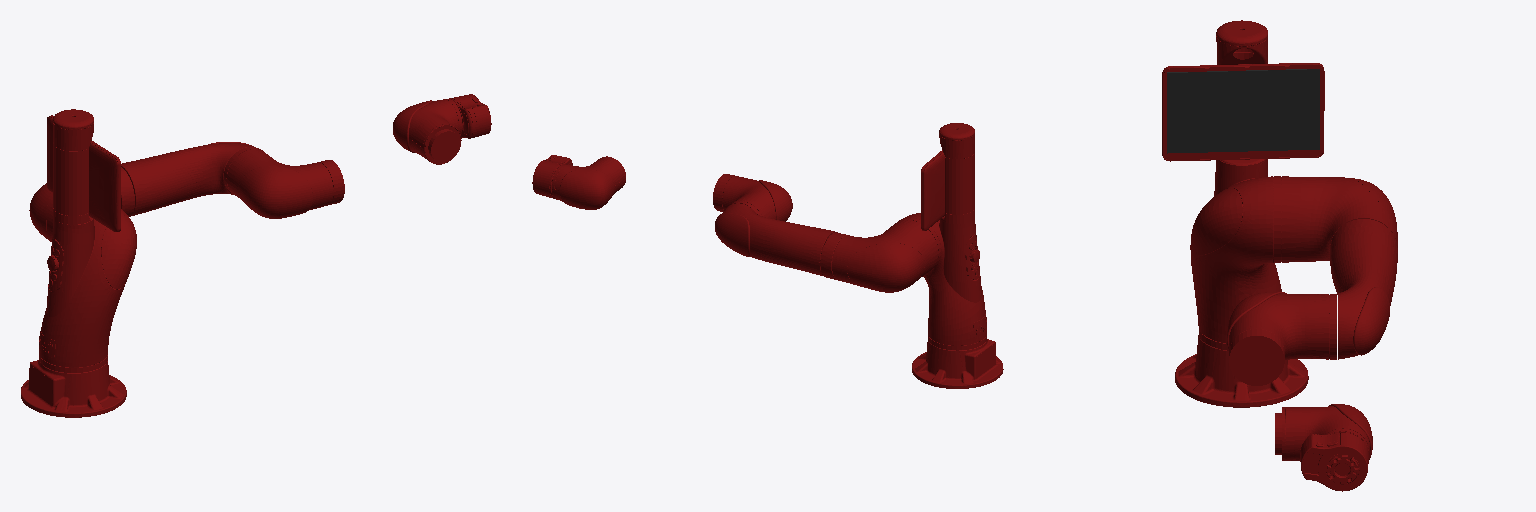
URDF robot description (sawyer):
<?xml version="1.0" ?>
<!-- =================================================================================== -->
<!-- |    This document was autogenerated by xacro from ./urdf.xacro                   | -->
<!-- |    EDITING THIS FILE BY HAND IS NOT RECOMMENDED                                 | -->
<!-- =================================================================================== -->
<robot name="sawyer" xmlns:xacro="http://www.ros.org/wiki/xacro">
    <material name="black">
      <color rgba="0 0 0 1"/>
    </material>
    <material name="darkgray">
      <color rgba=".2 .2 .2 1"/>
    </material>
    <material name="darkred">
      <color rgba=".5 .1 .1 1"/>
    </material>
    <material name="sawyer_red">
      <color rgba=".5 .1 .1 1"/>
    </material>
    <material name="sawyer_gray">
      <color rgba="0.75294 0.75294 0.75294 1"/>
    </material>
    <link name="base"/>
<!--
    <link name="torso">
      <visual>
        <origin rpy="0 0 0" xyz="0 0 0"/>
        <geometry>
          <box size="0 0 0"/>
        </geometry>
        <material name="darkgray">
          <color rgba=".2 .2 .2 1"/>
        </material>
      </visual>
      <inertial>
        <origin rpy="0 0 0" xyz="0.000000 0.000000 0.000000"/>
        <mass value="0.0001"/>
        <inertia ixx="1e-08" ixy="0" ixz="0" iyy="1e-08" iyz="0" izz="1e-08"/>
      </inertial>
    </link>
    <link name="pedestal">
      <visual>
        <origin rpy="1.57079632679 0 -1.57079632679" xyz="0.26 0.345 -0.91488"/>
        <geometry>
          <mesh filename="package://sawyer_description_openrave/meshes/sawyer_pv/pedestal.DAE"/>
        </geometry>
        <material name="darkgray"/>
      </visual>
      <collision>
        <origin rpy="0 0 0" xyz="-0.02 0 -0.29"/>
        <geometry>
          <cylinder length="0.62" radius="0.18"/>
        </geometry>
      </collision>
      <inertial>
        <origin rpy="0 0 0" xyz="0 0 0"/>
        <mass value="60.86397744"/>
        <inertia ixx="5.0635929" ixy="0.00103417" ixz="0.80199628" iyy="6.08689388" iyz="0.00105311" izz="4.96191932"/>
      </inertial>
    </link>
    <joint name="torso_t0" type="fixed">
      <origin rpy="0 0 0" xyz="0 0 0"/>
      <parent link="base"/>
      <child link="torso"/>
    </joint>
    <joint name="pedestal_fixed" type="fixed">
      <origin rpy="0 0 0" xyz="0.0 0.0 0.0"/>
      <parent link="base"/>
      <child link="pedestal"/>
    </joint>
-->
  <joint name="right_arm_mount" type="fixed">
    <origin rpy="0 0 0" xyz="0.0 0.0 0.0"/>
    <parent link="base"/>
    <child link="right_arm_base_link"/>
  </joint>
  <link name="right_arm_base_link">
    <inertial>
      <origin rpy="0 0 0" xyz="-0.0006241 -2.8025E-05 0.065404"/>
      <mass value="2.0687"/>
      <inertia ixx="0.0067599" ixy="-4.2024E-05" ixz="-6.1904E-07" iyy="0.0067877" iyz="1.5888E-05" izz="0.0074031"/>
    </inertial>
    <visual>
      <origin rpy="0 0 0" xyz="0 0 0"/>
      <geometry>
        <mesh filename="package://sawyer_description_openrave/meshes/sawyer_pv/base.DAE"/>
      </geometry>
      <material name="sawyer_red"/>
    </visual>
    <collision>
      <origin rpy="0 0 0" xyz="0 0 0.12"/>
      <geometry>
        <cylinder length="0.24" radius="0.08"/>
      </geometry>
    </collision>
  </link>
  <link name="right_l0">
    <inertial>
      <origin rpy="0 0 0" xyz="0.024366 0.010969 0.14363"/>
      <mass value="5.3213"/>
      <inertia ixx="0.053314" ixy="0.0047093" ixz="0.011734" iyy="0.057902" iyz="0.0080179" izz="0.023659"/>
    </inertial>
    <visual>
      <origin rpy="0 0 0" xyz="0 0 0"/>
      <geometry>
        <mesh filename="package://sawyer_description_openrave/meshes/sawyer_mp3/l0.DAE"/>
      </geometry>
      <material name="sawyer_red"/>
    </visual>
    <collision>
      <origin rpy="0 0 0" xyz="0.08 0 0.23"/>
      <geometry>
        <sphere radius="0.07"/>
      </geometry>
    </collision>
  </link>
  <joint name="right_j0" type="revolute">
    <origin rpy="-0.0002985644 0.0018972651 4.67207e-05" xyz="0.000163597 5.46084e-05 0.0795794219"/>
    <parent link="right_arm_base_link"/>
    <child link="right_l0"/>
    <axis xyz="0 0 1"/>
    <limit effort="80.0" lower="-3.0503" upper="3.0503" velocity="1.74"/>
  </joint>
  <link name="head">
    <inertial>
      <origin rpy="0 0 0" xyz="0.0053207 -2.6549E-05 0.1021"/>
      <mass value="1.5795"/>
      <inertia ixx="0.011833" ixy="-4.4669E-06" ixz="4.9425E-05" iyy="0.0082709" iyz="4.2124E-07" izz="0.0049661"/>
    </inertial>
    <visual>
      <origin rpy="0 0 0" xyz="0 0 0"/>
      <geometry>
        <mesh filename="package://sawyer_description_openrave/meshes/sawyer_pv/head.DAE"/>
      </geometry>
      <material name="sawyer_red"/>
    </visual>
    <collision>
      <origin rpy="0 0 0" xyz="0 0 0.08"/>
      <geometry>
        <sphere radius="0.18"/>
      </geometry>
    </collision>
  </link>
  <joint name="head_pan" type="revolute">
    <origin rpy="-0.000375610612151 -0.000717773645631 0.060618282317" xyz="-0.00043503123114 0.000635456478455 0.2965"/>
    <parent link="right_l0"/>
    <child link="head"/>
    <axis xyz="0 0 1"/>
    <limit effort="8" lower="-5.0952" upper="0.9064" velocity="1.8"/>
  </joint>
  <link name="right_torso_itb">
    <inertial>
      <origin rpy="0 0 0" xyz="0.000000 0.000000 0.000000"/>
      <mass value="0.0001"/>
      <inertia ixx="1e-08" ixy="0" ixz="0" iyy="1e-08" iyz="0" izz="1e-08"/>
    </inertial>
  </link>
  <joint name="right_torso_itb" type="fixed">
    <origin rpy="0 -1.57079632679 0" xyz="-.055 0 .22"/>
    <parent link="right_l0"/>
    <child link="right_torso_itb"/>
    <axis xyz="0 0 1"/>
  </joint>
  <link name="right_l1">
    <inertial>
      <origin rpy="0 0 0" xyz="-0.0030849 -0.026811 0.092521"/>
      <mass value="4.505"/>
      <inertia ixx="0.022398" ixy="-0.00023986" ixz="-0.00029362" iyy="0.014613" iyz="-0.0060875" izz="0.017295"/>
    </inertial>
    <visual>
      <origin rpy="0 0 0" xyz="0 0 0"/>
      <geometry>
        <mesh filename="package://sawyer_description_openrave/meshes/sawyer_mp3/l1.DAE"/>
      </geometry>
      <material name="sawyer_red"/>
    </visual>
    <collision>
      <origin rpy="0 0 0" xyz="0 0 0.1225"/>
      <geometry>
        <sphere radius="0.07"/>
      </geometry>
    </collision>
  </link>
  <joint name="right_j1" type="revolute">
    <origin rpy="-1.57005949279 1.56949847329 -0.0008032605" xyz="0.0807732027 0.0500167937 0.237"/>
    <parent link="right_l0"/>
    <child link="right_l1"/>
    <axis xyz="0 0 1"/>
    <limit effort="80.0" lower="-3.8095" upper="2.2736" velocity="1.328"/>
  </joint>
  <link name="right_l2">
    <inertial>
      <origin rpy="0 0 0" xyz="-0.00016044 -0.014967 0.13582"/>
      <mass value="1.745"/>
      <inertia ixx="0.025506" ixy="4.4101E-06" ixz="1.4955E-05" iyy="0.0253" iyz="-0.0033204" izz="0.0034179"/>
    </inertial>
    <visual>
      <origin rpy="0 0 0" xyz="0 0 0"/>
      <geometry>
        <mesh filename="package://sawyer_description_openrave/meshes/sawyer_pv/l2.DAE"/>
      </geometry>
      <material name="sawyer_red"/>
    </visual>
    <collision>
      <origin rpy="0 0 0" xyz="0 0 0.08"/>
      <geometry>
        <cylinder length="0.34" radius="0.06"/>
      </geometry>
    </collision>
  </link>
  <joint name="right_j2" type="revolute">
    <origin rpy="1.56982185629 -0.0008951969 0.0024593204" xyz="-0.0011561 -0.1402394172 0.1425177448"/>
    <parent link="right_l1"/>
    <child link="right_l2"/>
    <axis xyz="0 0 1"/>
    <limit effort="40.0" lower="-3.0426" upper="3.0426" velocity="1.957"/>
  </joint>
  <link name="right_l3">
    <inertial>
      <origin rpy="0 0 0" xyz="-0.0048135 -0.0281 -0.084154"/>
      <mass value="2.5097"/>
      <inertia ixx="0.01016" ixy="-9.7452E-06" ixz="0.00026624" iyy="0.0065685" iyz="0.0030316" izz="0.0069078"/>
    </inertial>
    <visual>
      <origin rpy="0 0 0" xyz="0 0 0"/>
      <geometry>
        <mesh filename="package://sawyer_description_openrave/meshes/sawyer_pv/l3.DAE"/>
      </geometry>
      <material name="sawyer_red"/>
    </visual>
    <collision>
      <origin rpy="0 0 0" xyz="0 -0.01 -0.12"/>
      <geometry>
        <sphere radius="0.06"/>
      </geometry>
    </collision>
  </link>
  <joint name="right_j3" type="revolute">
    <origin rpy="-1.57152985219 -0.0004637381 0.00025132" xyz="-0.0003042945 -0.0421041777 0.2600595397"/>
    <parent link="right_l2"/>
    <child link="right_l3"/>
    <axis xyz="0 0 1"/>
    <limit effort="40.0" lower="-3.0439" upper="3.0439" velocity="1.957"/>
  </joint>
  <link name="right_l4">
    <inertial>
      <origin rpy="0 0 0" xyz="-0.0018844 0.0069001 0.1341"/>
      <mass value="1.1136"/>
      <inertia ixx="0.013557" ixy="1.8109E-05" ixz="0.00013523" iyy="0.013555" iyz="0.0010561" izz="0.0013658"/>
    </inertial>
    <visual>
      <origin rpy="0 0 0" xyz="0 0 0"/>
      <geometry>
        <mesh filename="package://sawyer_description_openrave/meshes/sawyer_pv/l4.DAE"/>
      </geometry>
      <material name="sawyer_red"/>
    </visual>
    <collision>
      <origin rpy="0 0 0" xyz="0 0 0.11"/>
      <geometry>
        <cylinder length="0.30" radius="0.045"/>
      </geometry>
    </collision>
  </link>
  <joint name="right_j4" type="revolute">
    <origin rpy="1.57148053569 -0.0006765717 -0.0004526017" xyz="-4.14656e-05 -0.1247526357 -0.1266411523"/>
    <parent link="right_l3"/>
    <child link="right_l4"/>
    <axis xyz="0 0 1"/>
    <limit effort="9.0" lower="-2.9761" upper="2.9761" velocity="3.485"/>
  </joint>
  <link name="right_arm_itb">
    <inertial>
      <origin rpy="0 0 0" xyz="0.000000 0.000000 0.000000"/>
      <mass value="0.0001"/>
      <inertia ixx="1e-08" ixy="0" ixz="0" iyy="1e-08" iyz="0" izz="1e-08"/>
    </inertial>
  </link>
  <joint name="right_arm_itb" type="fixed">
    <origin rpy="0 -1.57079632679 0" xyz="-.055 0 .075"/>
    <parent link="right_l4"/>
    <child link="right_arm_itb"/>
    <axis xyz="0 0 1"/>
  </joint>
  <link name="right_l5">
    <inertial>
      <origin rpy="0 0 0" xyz="0.0061133 -0.023697 0.076416"/>
      <mass value="1.5625"/>
      <inertia ixx="0.0047328" ixy="0.00011526" ixz="4.6269E-05" iyy="0.0029676" iyz="-0.0011557" izz="0.0031762"/>
    </inertial>
    <visual>
      <origin rpy="0 0 0" xyz="0 0 0"/>
      <geometry>
        <mesh filename="package://sawyer_description_openrave/meshes/sawyer_pv/l5.DAE"/>
      </geometry>
      <material name="sawyer_red"/>
    </visual>
    <collision>
      <origin rpy="0 0 0" xyz="0 0 0.1"/>
      <geometry>
        <sphere radius="0.06"/>
      </geometry>
    </collision>
  </link>
  <joint name="right_j5" type="revolute">
    <origin rpy="-1.56869259669 0.0005321883 0.0007813353" xyz="-0.0001236812 0.0307252196 0.2746521054"/>
    <parent link="right_l4"/>
    <child link="right_l5"/>
    <axis xyz="0 0 1"/>
    <limit effort="9.0" lower="-2.9761" upper="2.9761" velocity="3.485"/>
  </joint>
  <link name="right_hand_camera"/>
  <joint name="right_hand_camera" type="fixed">
    <origin rpy="-0.445734774695 1.55629550314 -0.429789630424" xyz="0.0382275754565 -0.032511331905 0.0686165502955"/>
    <parent link="right_l5"/>
    <child link="right_hand_camera"/>
    <axis xyz="0 0 0"/>
  </joint>
  <link name="right_wrist"/>
  <joint name="right_wrist" type="fixed">
    <origin rpy="1.57079632679 0 0" xyz="0 0 0.10541"/>
    <parent link="right_l5"/>
    <child link="right_wrist"/>
    <axis xyz="0 0 0"/>
  </joint>
  <link name="right_l6">
    <inertial>
      <origin rpy="0 0 0" xyz="-8.0726E-06 0.0085838 -0.0049566"/>
      <mass value="0.3292"/>
      <inertia ixx="0.00031105" ixy="1.4771E-06" ixz="-3.7074E-07" iyy="0.00021549" iyz="-8.4533E-06" izz="0.00035976"/>
    </inertial>
    <visual>
      <origin rpy="0 0 0" xyz="0 0 0"/>
      <geometry>
        <mesh filename="package://sawyer_description_openrave/meshes/sawyer_mp1/l6.DAE"/>
      </geometry>
      <material name="sawyer_red"/>
    </visual>
    <collision>
      <origin rpy="0 0 0" xyz="0 0.015 -0.01"/>
      <geometry>
        <cylinder length="0.05" radius="0.055"/>
      </geometry>
    </collision>
  </link>
  <joint name="right_j6" type="revolute">
    <origin rpy="-1.56987330589 -0.1773123624 3.1421484795" xyz="0.0001362646 -0.1098066995 0.1050523612"/>
    <parent link="right_l5"/>
    <child link="right_l6"/>
    <axis xyz="0 0 1"/>
    <limit effort="9.0" lower="-4.7124" upper="4.7124" velocity="4.545"/>
  </joint>
  <link name="right_hand">
    <collision>
      <origin rpy="0 0 0" xyz="0 0 0.02"/>
      <geometry>
        <cylinder length="0.03" radius="0.035"/>
      </geometry>
    </collision>
    <inertial>
      <origin rpy="0 0 0" xyz="1.0E-08 1.0E-08 1.0E-08"/>
      <mass value="1.0E-08"/>
      <inertia ixx="1.0E-08" ixy="1.0E-08" ixz="1.0E-08" iyy="1.0E-08" iyz="1.0E-08" izz="1.0E-08"/>
    </inertial>
  </link>
  <joint name="right_hand" type="fixed">
    <origin rpy="0 0 1.570796" xyz="0 0 0.0245"/>
    <axis xyz="0 0 1"/>
    <parent link="right_l6"/>
    <child link="right_hand"/>
  </joint>
  <link name="right_l1_2">
    <inertial>
      <origin rpy="0 0 0" xyz="1.0E-08 1.0E-08 1.0E-08"/>
      <mass value="1.0E-08"/>
      <inertia ixx="1.0E-08" ixy="1.0E-08" ixz="1.0E-08" iyy="1.0E-08" iyz="1.0E-08" izz="1.0E-08"/>
    </inertial>
    <collision>
      <origin rpy="0 0 0" xyz="0 0 0.035"/>
      <geometry>
        <cylinder length="0.14" radius="0.07"/>
      </geometry>
    </collision>
  </link>
  <joint name="right_j1_2" type="fixed">
    <origin rpy="0 0 0" xyz="0 0 0"/>
    <parent link="right_l1"/>
    <child link="right_l1_2"/>
    <axis xyz="0 0 1"/>
  </joint>
  <link name="right_l2_2">
    <inertial>
      <origin rpy="0 0 0" xyz="1.0E-08 1.0E-08 1.0E-08"/>
      <mass value="1.0E-08"/>
      <inertia ixx="1.0E-08" ixy="1.0E-08" ixz="1.0E-08" iyy="1.0E-08" iyz="1.0E-08" izz="1.0E-08"/>
    </inertial>
    <collision>
      <origin rpy="0 0 0" xyz="0 0 0.26"/>
      <geometry>
        <sphere radius="0.06"/>
      </geometry>
    </collision>
  </link>
  <joint name="right_j2_2" type="fixed">
    <origin rpy="0 0 0" xyz="0 0 0"/>
    <parent link="right_l2"/>
    <child link="right_l2_2"/>
    <axis xyz="0 0 1"/>
  </joint>
  <link name="right_l4_2">
    <inertial>
      <origin rpy="0 0 0" xyz="1.0E-08 1.0E-08 1.0E-08"/>
      <mass value="1.0E-08"/>
      <inertia ixx="1.0E-08" ixy="1.0E-08" ixz="1.0E-08" iyy="1.0E-08" iyz="1.0E-08" izz="1.0E-08"/>
    </inertial>
    <collision>
      <origin rpy="0 0 0" xyz="0 0.01 0.26"/>
      <geometry>
        <sphere radius="0.06"/>
      </geometry>
    </collision>
  </link>
  <joint name="right_j4_2" type="fixed">
    <origin rpy="0 0 0" xyz="0 0 0"/>
    <parent link="right_l4"/>
    <child link="right_l4_2"/>
    <axis xyz="0 0 1"/>
  </joint>
  <link name="screen">
    <visual>
      <origin rpy="0 0 0" xyz="0 0 0"/>
      <geometry>
        <box size="0.24 0.14 0.002"/>
      </geometry>
      <material name="darkgray"/>
    </visual>
    <collision>
      <origin rpy="0 0 0" xyz="0 0 0"/>
      <geometry>
        <sphere radius="0.001"/>
      </geometry>
    </collision>
    <inertial>
      <origin rpy="0 0 0" xyz="0 0 0"/>
      <mass value="0.0001"/>
      <inertia ixx="1e-08" ixy="0" ixz="0" iyy="1e-08" iyz="0" izz="1e-08"/>
    </inertial>
  </link>
  <joint name="display_joint" type="fixed">
    <origin rpy="1.57079632679 0 1.57079632679" xyz="0.03 0.0 0.105"/>
    <parent link="head"/>
    <child link="screen"/>
  </joint>
  <link name="head_camera"/>
  <joint name="head_camera" type="fixed">
    <origin rpy="-2.12362578457 0.00914483957425 -1.57079632679" xyz="0.0253976919969 -0.000870932656271 0.215696810568"/>
    <parent link="head"/>
    <child link="head_camera"/>
    <axis xyz="0 0 0"/>
  </joint>
  
<!--
  <link name="controller_box">
    <collision>
      <origin rpy="0 0 0" xyz="-0.325 0 -0.38"/>
      <geometry>
        <box size="0.22 0.4 0.53"/>
      </geometry>
    </collision>
  </link>
  <joint name="controller_box_fixed" type="fixed">
    <origin rpy="0 0 0" xyz="0.0 0.0 0.0"/>
    <parent link="base"/>
    <child link="controller_box"/>
  </joint>
  <link name="pedestal_feet">
    <collision>
      <origin rpy="0 0 0" xyz="-0.1225 0 -0.758"/>
      <geometry>
        <box size="0.77 0.7 0.31"/>
      </geometry>
    </collision>
  </link>
  <joint name="pedestal_feet_fixed" type="fixed">
    <origin rpy="0 0 0" xyz="0.0 0.0 0.0"/>
    <parent link="base"/>
    <child link="pedestal_feet"/>
  </joint>
  <joint name="right_gripper_base" type="fixed">
    <child link="right_gripper_base">
    </child>
    <origin rpy="0.0 0.0 0.0" xyz="0.0 0.0 -0.00500000000000000">
    </origin>
    <parent link="right_hand">
    </parent>
  </joint>
  <joint name="right_gripper_endpoint" type="fixed">
    <child link="right_gripper">
    </child>
    <origin rpy="0.0 0.0 0.0" xyz="0.0 0.0 0.0500000000000000">
    </origin>
    <parent link="right_gripper_base">
    </parent>
  </joint>
  <link name="right_gripper_base">
    <collision>
      <geometry>
        <cylinder length="0.118" radius="0.070">
        </cylinder>
      </geometry>
      <origin rpy="0.0 0.0 0.0" xyz="0.0 0.0 0.00500000000000000">
      </origin>
    </collision>
    <inertial>
      <inertia ixx="0.0" ixy="0.0" ixz="0.0" iyy="0.0" iyz="0.0" izz="0.0">
      </inertia>
      <mass value="0.440000000000000">
      </mass>
      <origin rpy="0.0 0.0 0.0" xyz="0.00280000000000000 -0.000400000000000000 0.0322000000000000">
      </origin>
    </inertial>
    <visual>
      <geometry>
        <mesh filename="package://intera_tools_description/meshes/electric_gripper/electric_gripper_w_fingers.DAE" scale="1.0 1.0 1.0">
        </mesh>
      </geometry>
      <origin rpy="0.0 0.0 0.0" xyz="0.0 0.0 -0.00100000000000000">
      </origin>
    </visual>
  </link>
  <link name="right_gripper">
    <collision>
      <geometry>
        <box size="0.0100000000000000 0.0100000000000000 0.0100000000000000">
        </box>
      </geometry>
      <origin rpy="0.0 0.0 0.0" xyz="0.0 0.0 0.0">
      </origin>
    </collision>
    <inertial>
      <inertia ixx="1.00000000000000e-08" ixy="0.0" ixz="0.0" iyy="1.00000000000000e-08" iyz="0.0" izz="1.00000000000000e-08">
      </inertia>
      <mass value="0.0">
      </mass>
      <origin rpy="0.0 0.0 0.0" xyz="0.0 0.0 0.0">
      </origin>
    </inertial>
    <visual>
      <geometry>
        <box size="0.0150000000000000 0.0150000000000000 0.0150000000000000">
        </box>
      </geometry>
      <material name="darkgrey">
        <color rgba="0.200000000000000 0.300000000000000 0.300000000000000 1.0">
        </color>
      </material>
      <origin rpy="0.0 0.0 0.0" xyz="0.0 0.0 0.0">
      </origin>
    </visual>
  </link>
-->
  </robot>

--- Facts derived from the render (not from the file) ---
Views: 3 orthographic renders of the robot side by side, from view 1: azimuth 30°, elevation 25°; view 2: azimuth 150°, elevation 25°; view 3: azimuth 270°, elevation 25°.
Robot: sawyer — 20 links, 19 joints (8 revolute, 11 fixed); root link base; default pose: every joint at zero.
Links seen in each view (by area): view 1: right_l0, head, right_l3, right_l2, right_arm_base_link, right_l5, right_l1, right_l6; view 2: right_l0, right_l1, right_l2, head, right_arm_base_link, right_l5, right_l3, right_l6; view 3: screen, right_l0, right_l3, right_l1, right_l2, head, right_arm_base_link, right_l6, right_l5.
Link boxes in pixels (bbox=[...]): right_l0: bbox=[39, 209, 136, 372]; head: bbox=[47, 109, 120, 231]; right_l3: bbox=[224, 147, 344, 218]; right_l2: bbox=[121, 142, 253, 216]; right_arm_base_link: bbox=[21, 359, 126, 417]; right_l5: bbox=[393, 99, 462, 164]; right_l1: bbox=[29, 167, 134, 241]; right_l6: bbox=[449, 94, 491, 138]; right_l0: bbox=[899, 213, 986, 350]; right_l1: bbox=[820, 218, 940, 292]; right_l2: bbox=[715, 203, 837, 275]; head: bbox=[921, 123, 974, 230]; right_arm_base_link: bbox=[912, 339, 1003, 388]; right_l5: bbox=[552, 156, 625, 209]; right_l3: bbox=[713, 174, 792, 221]; right_l6: bbox=[532, 155, 572, 198]; screen: bbox=[1167, 69, 1319, 153]; right_l0: bbox=[1190, 159, 1281, 350]; right_l3: bbox=[1227, 292, 1336, 385]; right_l1: bbox=[1274, 176, 1397, 262]; right_l2: bbox=[1330, 226, 1397, 359]; head: bbox=[1162, 20, 1324, 164]; right_arm_base_link: bbox=[1175, 335, 1308, 407]; right_l6: bbox=[1300, 431, 1368, 491]; right_l5: bbox=[1275, 404, 1372, 460].
Bounding box of the posed robot: 1.12 × 0.3712 × 0.6096 m (x, y, z).
Meshes: 9 distinct files referenced, 8 mesh visuals loaded (8 Collada DAE); not drawn: 1 (reference not matched to a file when rendering).